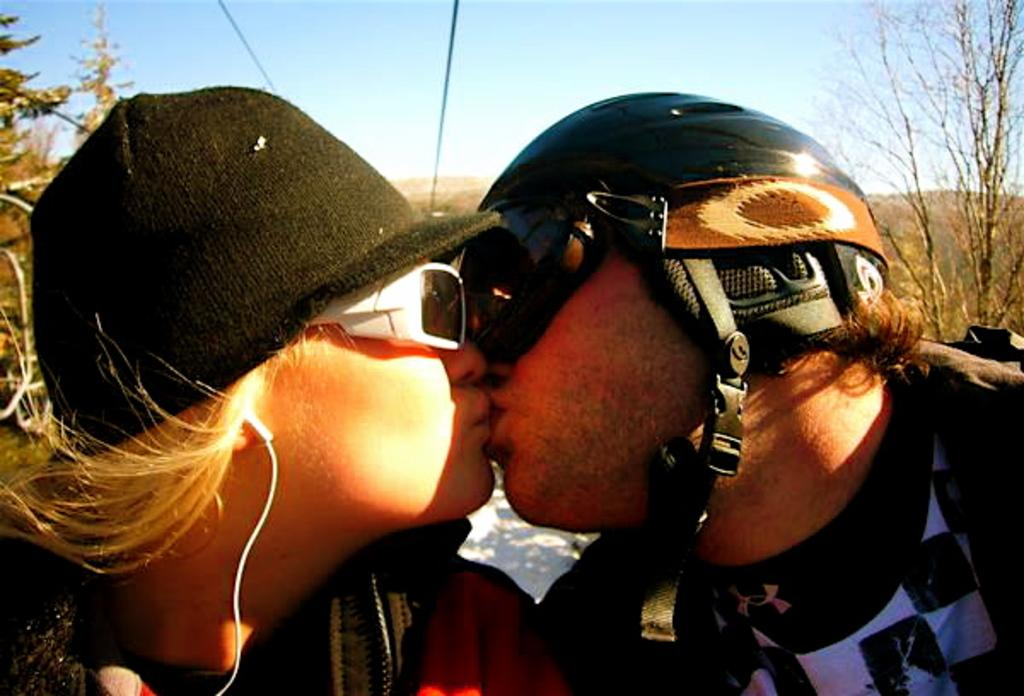Hat: (32, 83, 508, 460)
